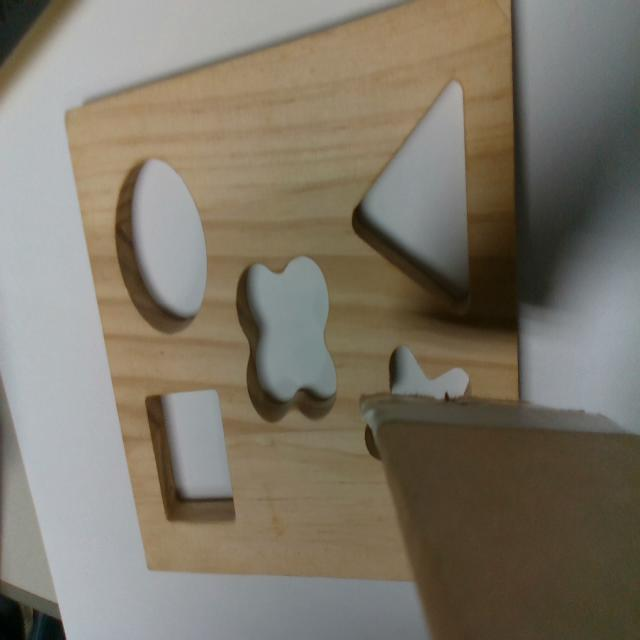circle: (116, 156, 207, 337)
flower: (237, 256, 338, 424)
square: (145, 389, 237, 523)
star: (365, 347, 473, 453)
triangle: (350, 75, 473, 317)
